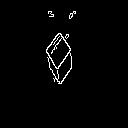cube: (37, 33, 83, 89)
